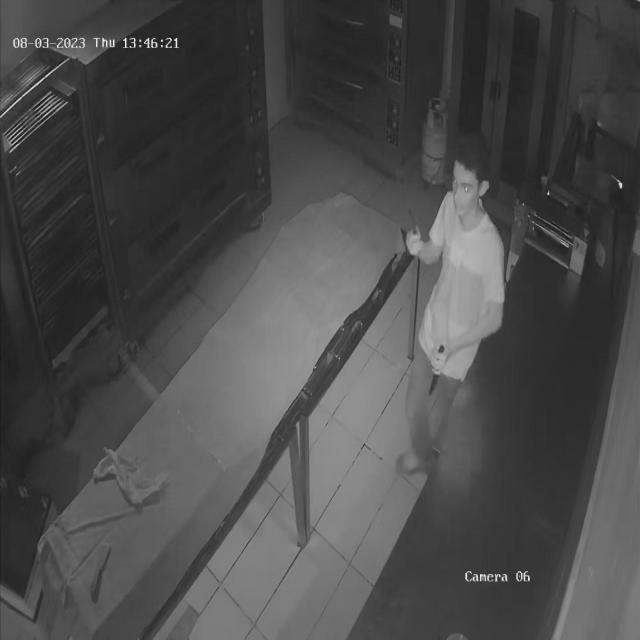Knife: (427, 347, 450, 402)
